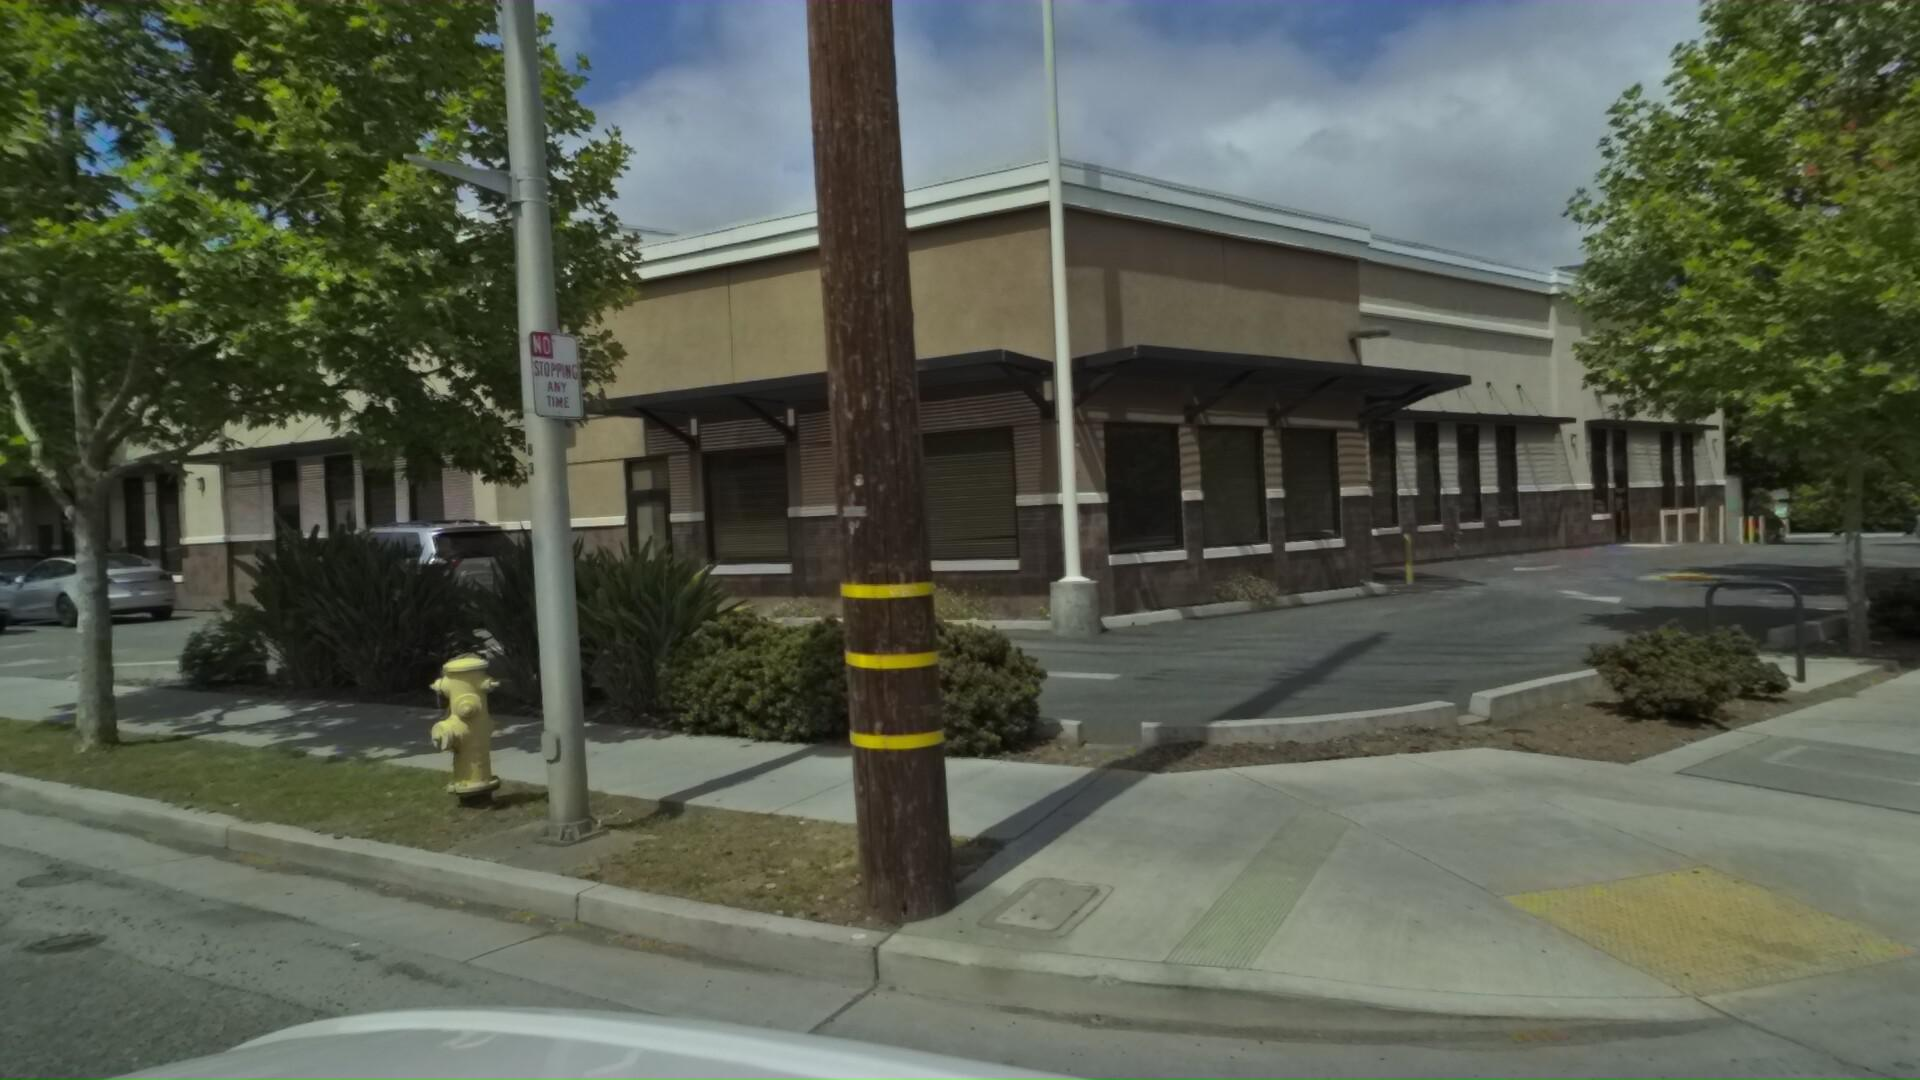car: (278, 512, 559, 632), (0, 537, 204, 622), (0, 535, 83, 618), (0, 531, 36, 641)
